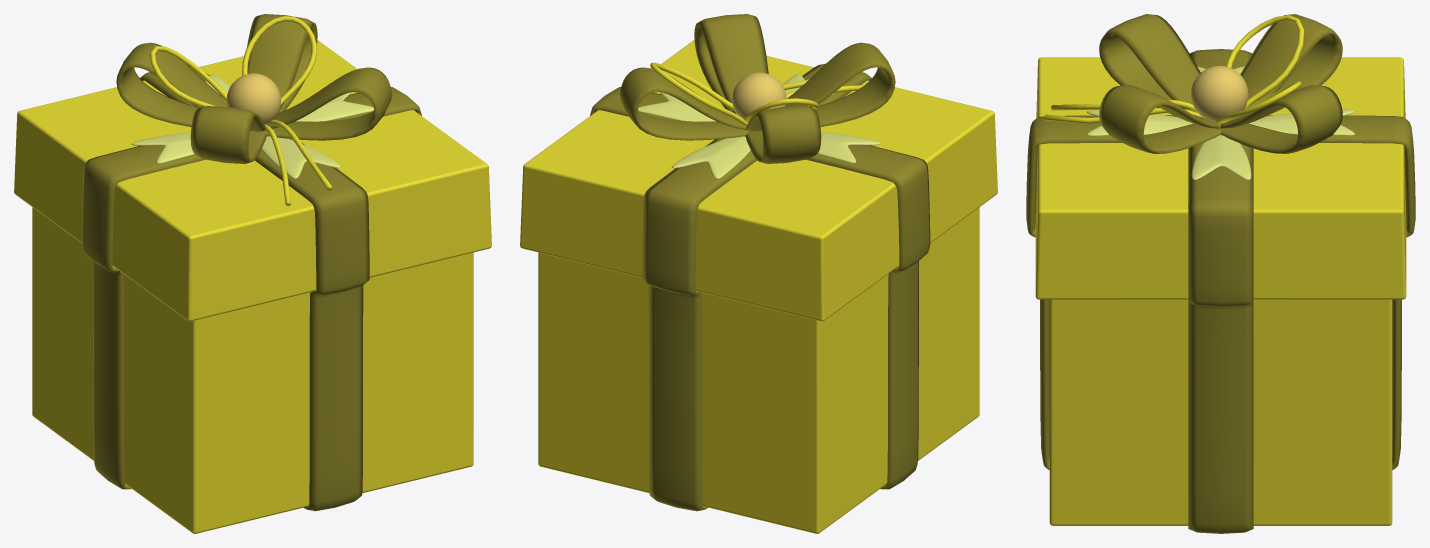
Rendered from CloneGift.fbx.
3 views of the same model, side by side, from view 1: azimuth 30°, elevation 25°; view 2: azimuth 150°, elevation 25°; view 3: azimuth 270°, elevation 25° (orthographic). The views are drawn at different scales.
Parts seen in each view (by area): view 1: Giftbox01; view 2: Giftbox01; view 3: Giftbox01.
Part boxes in pixels (x1,y1,x2,y2): Giftbox01: (14,14,491,533); Giftbox01: (520,14,997,533); Giftbox01: (1026,14,1415,533).
Bounding box in the file's own units: 227 × 266 × 227.
